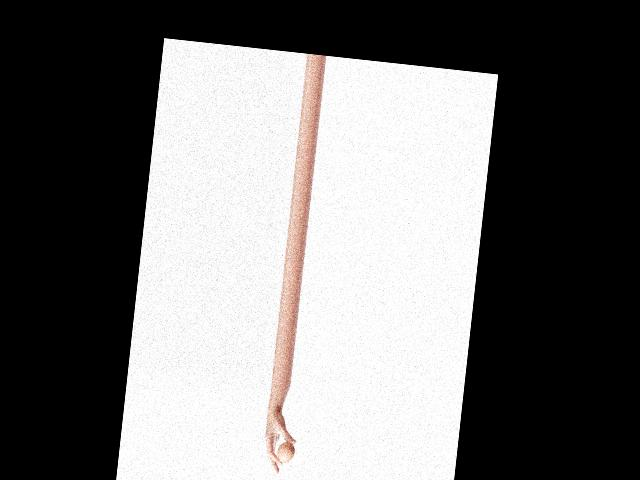egg: (276, 440, 295, 463)
